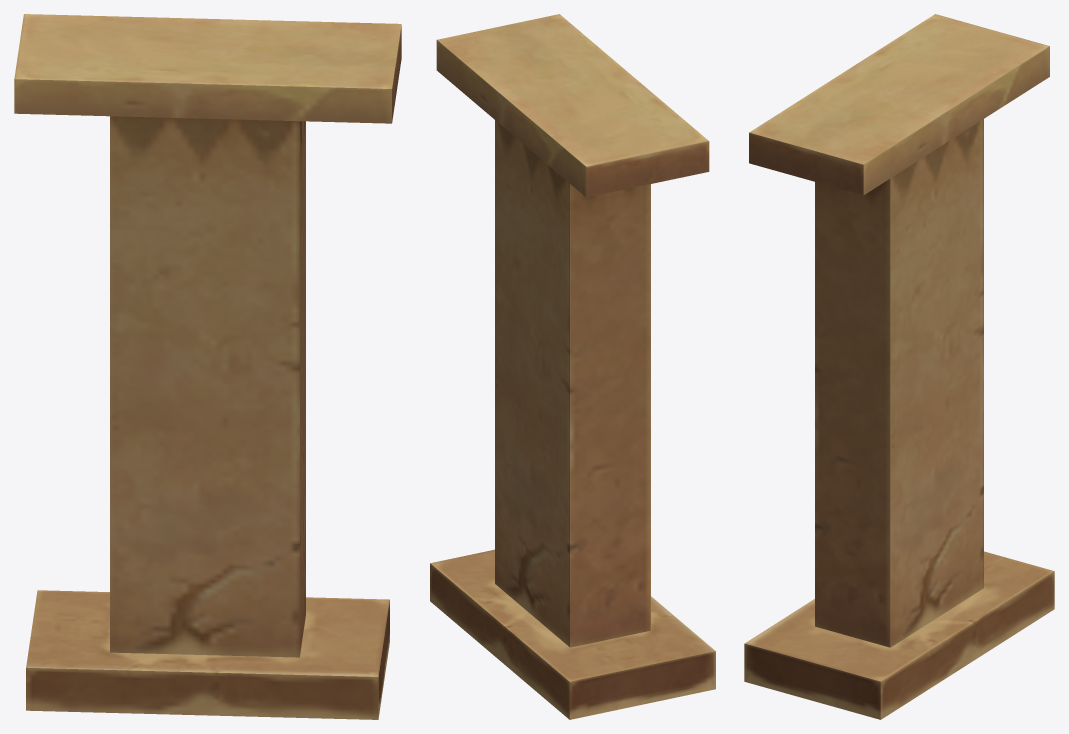
The model's file is Area_09_47.fbx.
The picture shows the model from 3 angles, left to right: view 1: azimuth 30°, elevation 25°; view 2: azimuth 150°, elevation 25°; view 3: azimuth 270°, elevation 25°; orthographic projection. The views are drawn at different scales.
Parts seen in each view (by area): view 1: Area_09_47; view 2: Area_09_47; view 3: Area_09_47.
Boxes of the visible parts, x1,y1,x2,y2 form: Area_09_47: (14,14,401,719); Area_09_47: (430,14,715,719); Area_09_47: (744,14,1054,719).
Size of the model in its own units: 351 by 603 by 305.
Materials: 1 (1 with a texture image).
